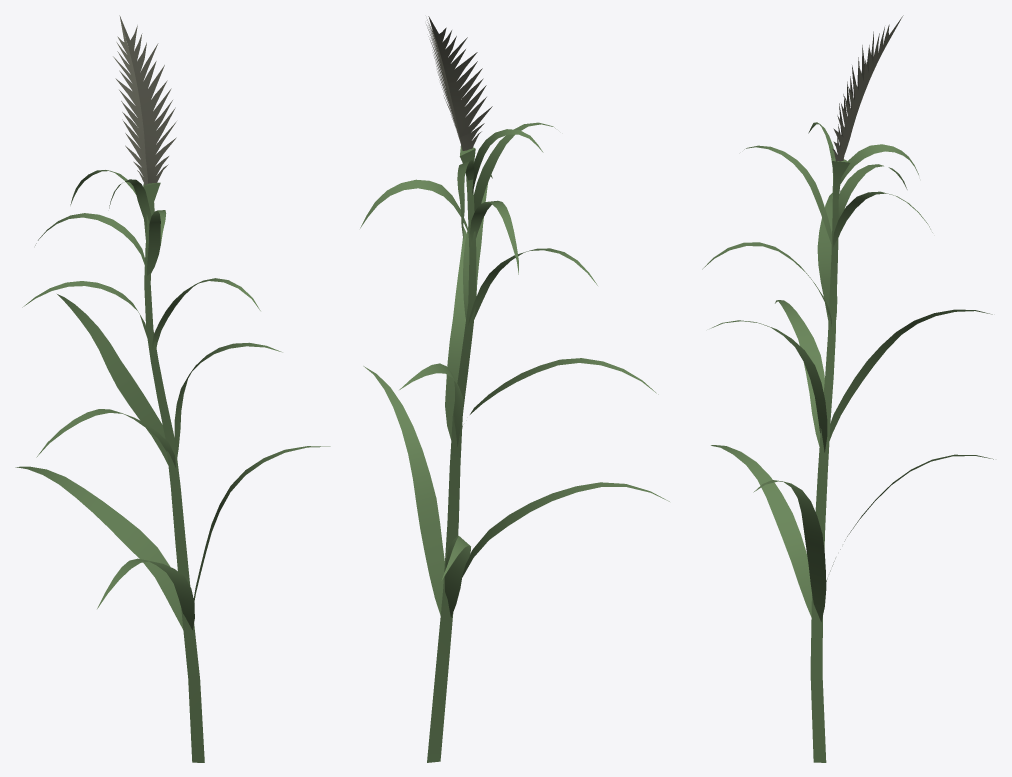
The model's file is plant_pampa_C.fbx.
The picture shows the model from 3 angles, left to right: view 1: azimuth 30°, elevation 25°; view 2: azimuth 150°, elevation 25°; view 3: azimuth 270°, elevation 25°; orthographic projection. The views are drawn at different scales.
Visible parts, largest first — view 1: plant_pampa_C_twig, plant_pampa_C_leaf_flower, plant_pampa_C_leaf_K, plant_pampa_C_leaf_J, plant_pampa_C_leaf_M, plant_pampa_C_leaf_E, plant_pampa_C_leaf_I, plant_pampa_C_leaf_H, plant_pampa_C_leaf_L, plant_pampa_C_leaf_G, plant_pampa_C_leaf_F, plant_pampa_C_leaf_C; view 2: plant_pampa_C_twig, plant_pampa_C_leaf_L, plant_pampa_C_leaf_flower, plant_pampa_C_leaf_I, plant_pampa_C_leaf_M, plant_pampa_C_leaf_K, plant_pampa_C_leaf_H, plant_pampa_C_leaf_E, plant_pampa_C_leaf_D, plant_pampa_C_leaf_C, plant_pampa_C_leaf_J, plant_pampa_C_leaf_G (+3 smaller); view 3: plant_pampa_C_twig, plant_pampa_C_leaf_M, plant_pampa_C_leaf_L, plant_pampa_C_leaf_flower, plant_pampa_C_leaf_H, plant_pampa_C_leaf_J, plant_pampa_C_leaf_F, plant_pampa_C_leaf_I, plant_pampa_C_leaf_E, plant_pampa_C_leaf_C, plant_pampa_C_leaf_B, plant_pampa_C_leaf_D.
Boxes of the visible parts, <box> form: plant_pampa_C_twig: <box>143,182,204,762</box>; plant_pampa_C_leaf_flower: <box>113,15,176,185</box>; plant_pampa_C_leaf_K: <box>15,466,183,629</box>; plant_pampa_C_leaf_J: <box>57,294,168,464</box>; plant_pampa_C_leaf_M: <box>97,558,194,629</box>; plant_pampa_C_leaf_E: <box>147,210,166,275</box>; plant_pampa_C_leaf_I: <box>174,342,282,457</box>; plant_pampa_C_leaf_H: <box>36,409,175,467</box>; plant_pampa_C_leaf_L: <box>193,446,330,601</box>; plant_pampa_C_leaf_G: <box>152,278,260,353</box>; plant_pampa_C_leaf_F: <box>22,281,153,352</box>; plant_pampa_C_leaf_C: <box>35,213,145,269</box>; plant_pampa_C_twig: <box>427,146,476,762</box>; plant_pampa_C_leaf_L: <box>363,366,444,615</box>; plant_pampa_C_leaf_flower: <box>426,16,492,150</box>; plant_pampa_C_leaf_I: <box>445,226,466,439</box>; plant_pampa_C_leaf_M: <box>462,482,669,577</box>; plant_pampa_C_leaf_K: <box>441,535,470,617</box>; plant_pampa_C_leaf_H: <box>462,358,658,426</box>; plant_pampa_C_leaf_E: <box>473,122,555,211</box>; plant_pampa_C_leaf_D: <box>360,179,468,233</box>; plant_pampa_C_leaf_C: <box>470,200,518,274</box>; plant_pampa_C_leaf_J: <box>399,363,463,446</box>; plant_pampa_C_leaf_G: <box>463,175,492,318</box>; plant_pampa_C_twig: <box>810,157,850,762</box>; plant_pampa_C_leaf_M: <box>711,445,811,617</box>; plant_pampa_C_leaf_L: <box>753,480,826,621</box>; plant_pampa_C_leaf_flower: <box>832,15,903,161</box>; plant_pampa_C_leaf_H: <box>775,300,824,446</box>; plant_pampa_C_leaf_J: <box>829,309,992,440</box>; plant_pampa_C_leaf_F: <box>817,190,840,321</box>; plant_pampa_C_leaf_I: <box>710,320,827,452</box>; plant_pampa_C_leaf_E: <box>744,145,831,244</box>; plant_pampa_C_leaf_C: <box>838,164,907,218</box>; plant_pampa_C_leaf_B: <box>840,144,918,183</box>; plant_pampa_C_leaf_D: <box>833,191,932,246</box>.
Size of the model in its own units: 91.3 by 223 by 82.26.
